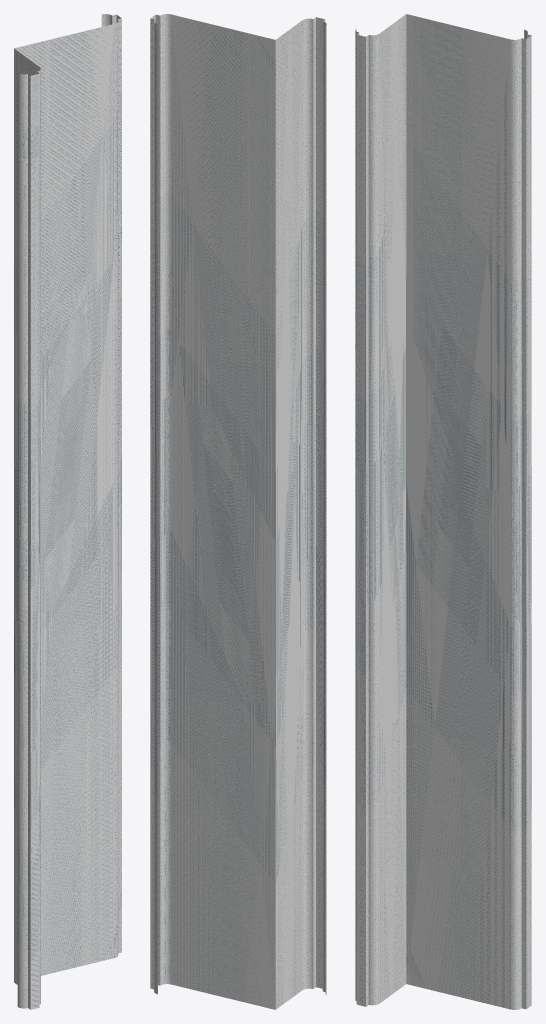
Rendered from PW_CornerFixElem_os_T1_035x060x010x400.dae.
3 renders of one model, left to right at view 1: azimuth 30°, elevation 25°; view 2: azimuth 150°, elevation 25°; view 3: azimuth 330°, elevation 25°, orthographic. The views are drawn at different scales.
Visible parts, largest first — view 1: group_0; view 2: group_0; view 3: group_0.
Part boxes in pixels (left/top/right/bottom): group_0: left=14, top=14, right=121, bottom=1009; group_0: left=150, top=14, right=326, bottom=1009; group_0: left=355, top=14, right=531, bottom=1009.
Size of the model in its own units: 23.62 by 13.78 by 157.
